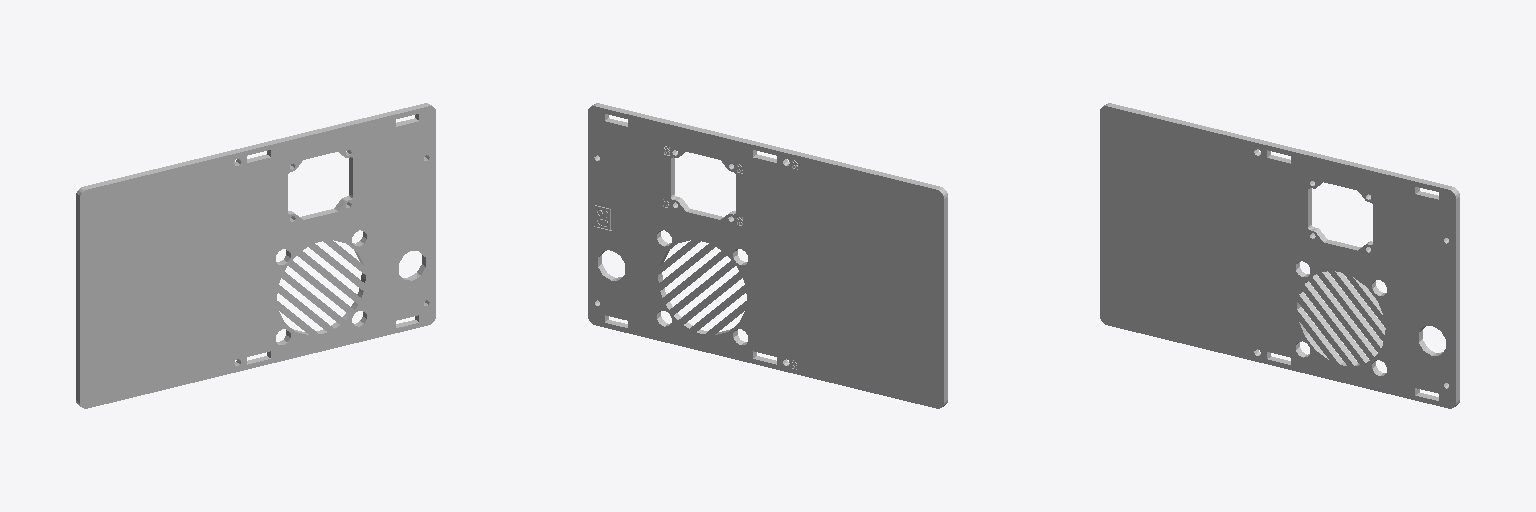
File: interaction_plate.obj
The picture shows the model from 3 angles: view 1: azimuth 30°, elevation 25°; view 2: azimuth 150°, elevation 25°; view 3: azimuth 330°, elevation 25°; orthographic projection.
Parts seen in each view (by area): view 1: 4010-00_Interaction_Plate; view 2: 4010-00_Interaction_Plate; view 3: 4010-00_Interaction_Plate.
Part boxes in pixels (x1,y1,x2,y2): 4010-00_Interaction_Plate: (76, 103, 435, 408); 4010-00_Interaction_Plate: (588, 103, 947, 408); 4010-00_Interaction_Plate: (1100, 103, 1459, 408).
Bounding box in the file's own units: 0.149 × 0.0875 × 0.003.